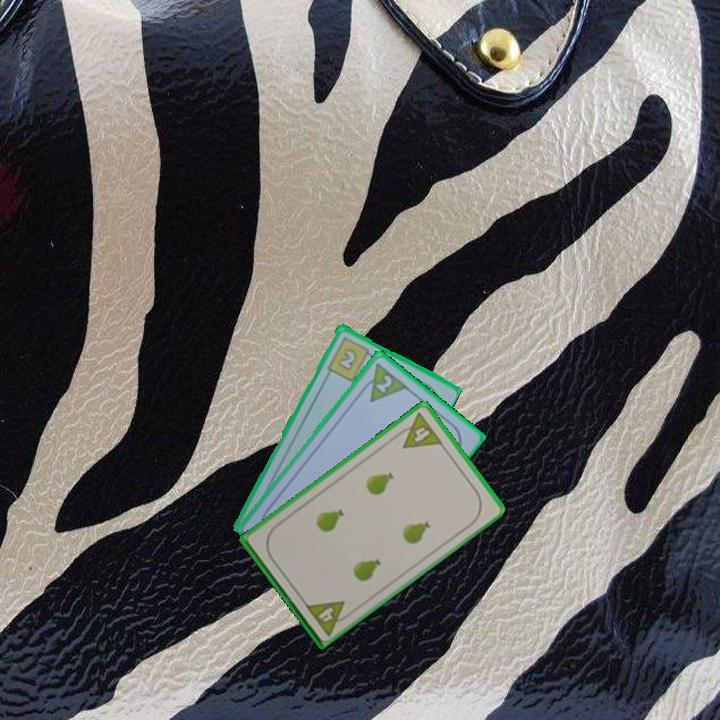2b: (324, 333, 377, 384)
2p: (372, 371, 395, 396)
4p: (391, 409, 445, 451), (301, 597, 355, 638)
